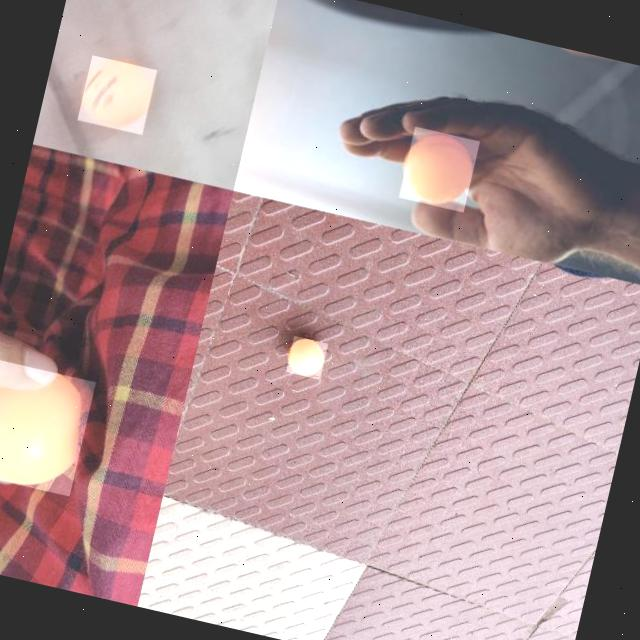ping-pong-ball: (0, 355, 95, 496), (397, 125, 480, 212), (76, 53, 158, 135), (284, 334, 328, 380)
